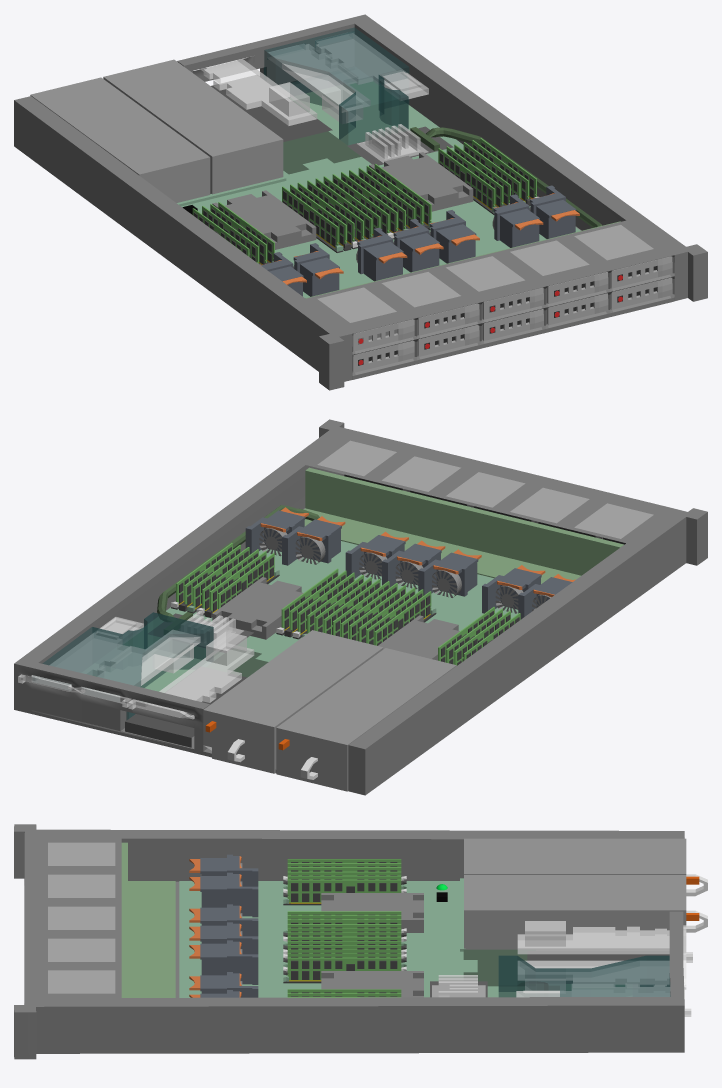
File: server.glb
3 renders of one model, top to bottom at view 1: azimuth 30°, elevation 25°; view 2: azimuth 150°, elevation 25°; view 3: azimuth 270°, elevation 25°, orthographic.
Visible parts, largest first — view 1: Chassis, PSU.001, Riser, PSU.000, Mainboard, Heatsinks, PCIE.002, PCIE.001, Plane, PCIE, Plane.002, Fan.003 (+38 smaller); view 2: Chassis, Backplane, PSU.001, PSU.000, Riser, Mainboard, Heatsinks, PCIE.001, PCIE.002, Plane, PCIE, Fan.003 (+25 smaller); view 3: Chassis, PSU.001, Mainboard, PSU.000, Backplane, Riser, Heatsinks, PCIE.001, PCIE.002, Fan.006, Fan.001, Plane (+27 smaller).
Part boxes in pixels (x1,y1,x2,y2): Chassis: (14,14,707,390); PSU.001: (103,59,283,194); Riser: (263,27,409,145); PSU.000: (30,77,210,202); Mainboard: (177,81,580,298); Heatsinks: (212,152,473,249); PCIE.002: (250,44,370,123); PCIE.001: (200,57,317,125); Plane: (211,75,332,141); PCIE: (315,32,428,100); Plane.002: (283,131,361,174); Fan.003: (493,194,543,247); Chassis: (14,419,707,795); Backplane: (304,467,623,583); PSU.001: (203,630,383,773); PSU.000: (276,648,456,791); Riser: (33,612,213,720); Mainboard: (92,541,518,692); Heatsinks: (212,577,459,660); PCIE.001: (128,631,254,719); PCIE.002: (68,630,200,707); Plane: (125,666,246,747); PCIE: (18,617,143,692); Fan.003: (282,516,345,565); Chassis: (14,824,684,1059); PSU.001: (464,875,707,953); Mainboard: (179,878,624,997); PSU.000: (464,838,707,896); Backplane: (121,842,175,997); Riser: (498,955,670,997); Heatsinks: (321,893,423,997); PCIE.001: (517,921,692,959); PCIE.002: (518,954,692,990); Fan.006: (189,940,258,984); Fan.001: (189,872,258,917); Plane: (527,951,669,983).
Bounding box in the file's own units: 28.11 × 5.97 × 43.81.
